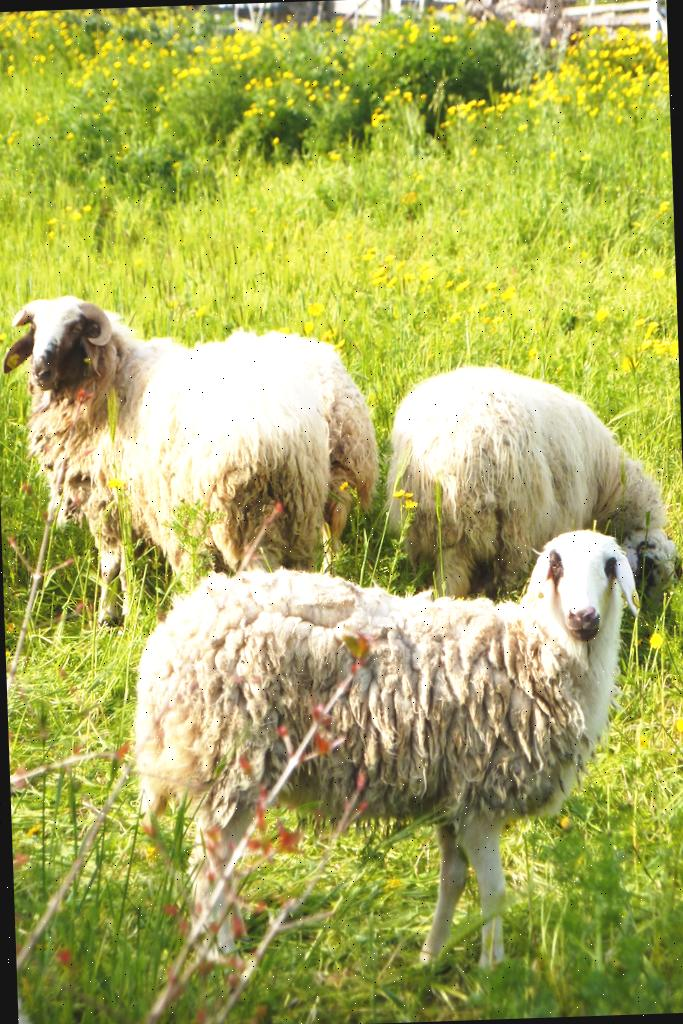Sheep: (128, 526, 649, 1004), (0, 283, 334, 635), (376, 356, 683, 635)
